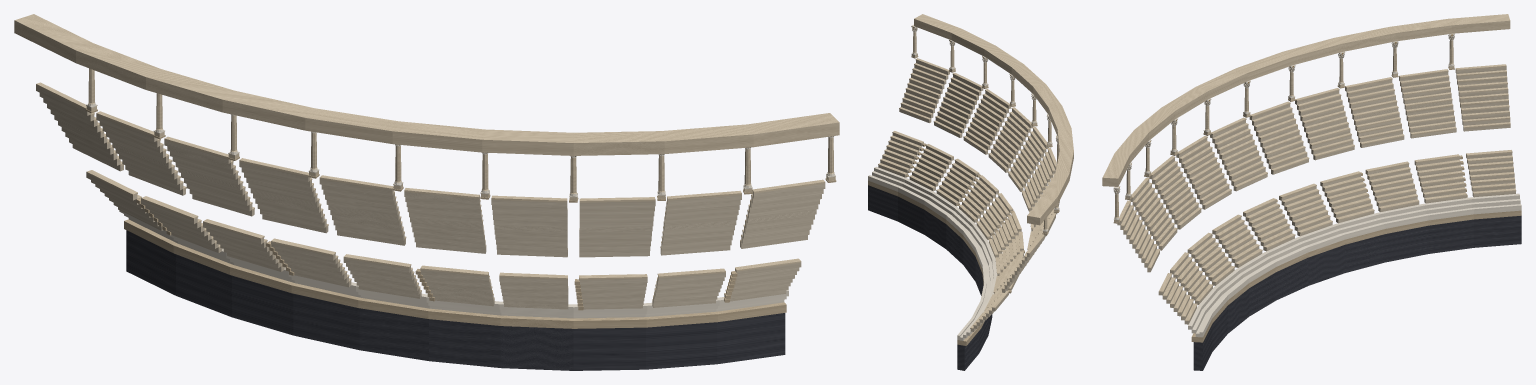
The model's file is COL_CaveaSeating_Q2.obj.
3 views of the same model, side by side, from view 1: azimuth 30°, elevation 25°; view 2: azimuth 150°, elevation 25°; view 3: azimuth 270°, elevation 25° (orthographic). The views are drawn at different scales.
Parts seen in each view (by area): view 1: COL_CaveaSeating_Q2; view 2: COL_CaveaSeating_Q2; view 3: COL_CaveaSeating_Q2.
Boxes of the visible parts, x1,y1,x2,y2 form: COL_CaveaSeating_Q2: [14, 14, 839, 370]; COL_CaveaSeating_Q2: [868, 14, 1073, 370]; COL_CaveaSeating_Q2: [1102, 14, 1521, 370].
Size of the model in its own units: 113 by 58.2 by 118.
Materials: 7 (7 with a texture image).
